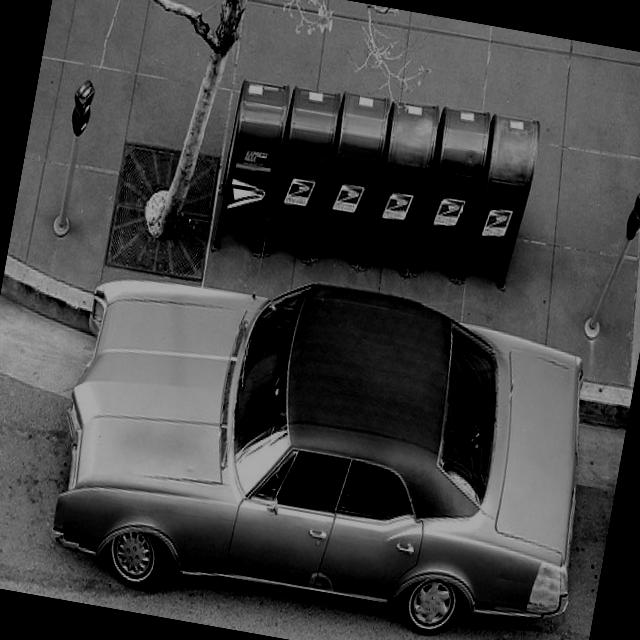Vehicle: (37, 240, 608, 640)
